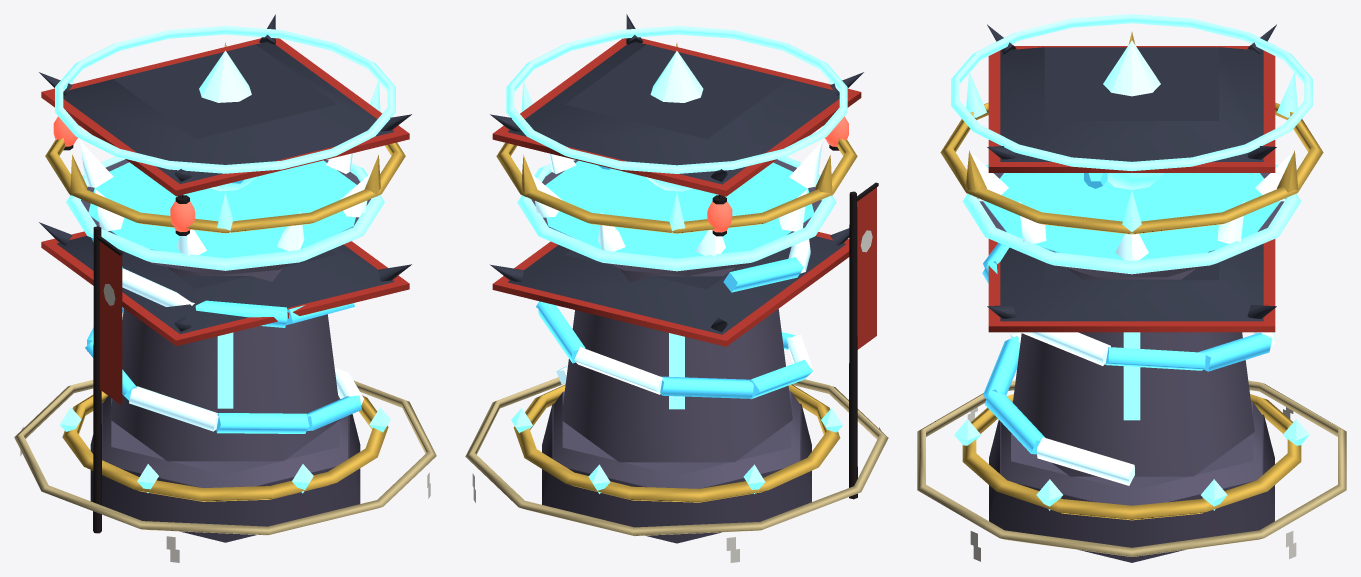
File: tower_element_elementTide_ultimate.glb
3 renders of one model, left to right at view 1: azimuth 30°, elevation 25°; view 2: azimuth 150°, elevation 25°; view 3: azimuth 270°, elevation 25°, orthographic. The views are drawn at different scales.
Parts seen in each view (by area): view 1: deco_eave_0_roof, pillar, basin_water, deco_eave_1_roof, base, base_top, ult_halo, deco_shimenawa_rope, deco_eave_0_rim, ult_ring, basin_rim, deco_eave_1_rim (+17 smaller); view 2: deco_eave_0_roof, pillar, basin_water, deco_eave_1_roof, base, base_top, ult_halo, deco_shimenawa_rope, ult_ring, deco_eave_0_rim, deco_eave_1_rim, basin_rim (+16 smaller); view 3: deco_eave_0_roof, pillar, basin_water, deco_eave_1_roof, base, ult_halo, base_top, deco_shimenawa_rope, ult_ring, ult_crown_band, basin_rim, deco_eave_0_rim (+18 smaller).
Boxes of the visible parts, bbox=[...] form: deco_eave_0_roof: bbox=[63, 42, 394, 184]; pillar: bbox=[110, 267, 340, 461]; basin_water: bbox=[88, 160, 356, 258]; deco_eave_1_roof: bbox=[56, 236, 394, 334]; base: bbox=[90, 403, 360, 542]; base_top: bbox=[102, 395, 348, 487]; ult_halo: bbox=[55, 25, 395, 173]; deco_shimenawa_rope: bbox=[14, 380, 436, 535]; deco_eave_0_rim: bbox=[41, 38, 409, 196]; ult_ring: bbox=[62, 391, 388, 501]; basin_rim: bbox=[66, 156, 384, 270]; deco_eave_1_rim: bbox=[41, 231, 409, 346]; deco_eave_0_roof: bbox=[508, 42, 839, 184]; pillar: bbox=[561, 267, 792, 462]; basin_water: bbox=[545, 160, 813, 258]; deco_eave_1_roof: bbox=[508, 236, 845, 334]; base: bbox=[542, 403, 811, 543]; base_top: bbox=[553, 391, 800, 488]; ult_halo: bbox=[506, 25, 847, 173]; deco_shimenawa_rope: bbox=[465, 377, 888, 536]; ult_ring: bbox=[513, 384, 840, 502]; deco_eave_0_rim: bbox=[492, 38, 861, 196]; deco_eave_1_rim: bbox=[492, 232, 849, 346]; basin_rim: bbox=[517, 156, 836, 271]; deco_eave_0_roof: bbox=[1000, 47, 1263, 161]; pillar: bbox=[1009, 268, 1254, 476]; basin_water: bbox=[983, 173, 1280, 259]; deco_eave_1_roof: bbox=[1000, 243, 1263, 321]; base: bbox=[989, 414, 1274, 562]; ult_halo: bbox=[951, 14, 1312, 170]; base_top: bbox=[1001, 402, 1262, 505]; deco_shimenawa_rope: bbox=[917, 380, 1346, 556]; ult_ring: bbox=[962, 394, 1301, 520]; ult_crown_band: bbox=[940, 102, 1323, 234]; basin_rim: bbox=[962, 164, 1301, 274]; deco_eave_0_rim: bbox=[988, 46, 1275, 172].
Bounding box in the file's own units: 0.5326 × 0.59 × 0.5066.
